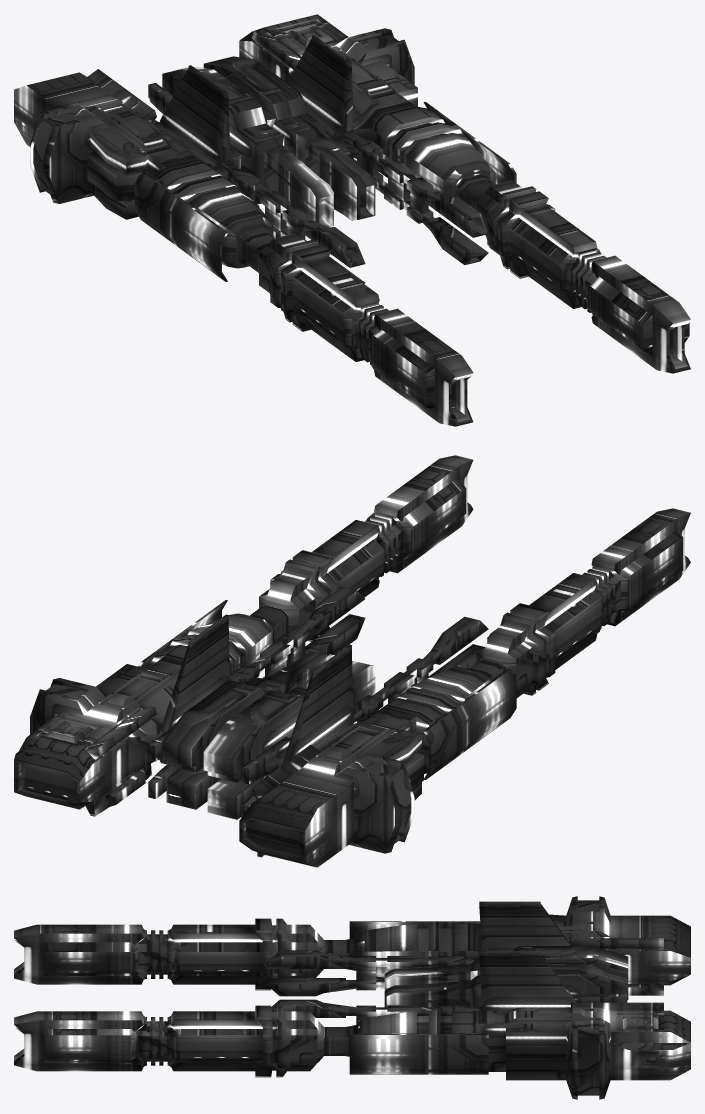
The model's file is ATTACHMENT.fbx.
The picture shows the model from 3 angles, top to bottom: view 1: azimuth 30°, elevation 25°; view 2: azimuth 150°, elevation 25°; view 3: azimuth 270°, elevation 25°; orthographic projection. The views are drawn at different scales.
Visible parts, largest first — view 1: H MATTER CANNON; view 2: H MATTER CANNON; view 3: H MATTER CANNON.
Part boxes in pixels (box(x1,y1,x2,y2)): H MATTER CANNON: box(14, 14, 690, 426); H MATTER CANNON: box(14, 455, 690, 867); H MATTER CANNON: box(14, 896, 690, 1099).
Bounding box in the file's own units: 2496 × 4817 × 904.
